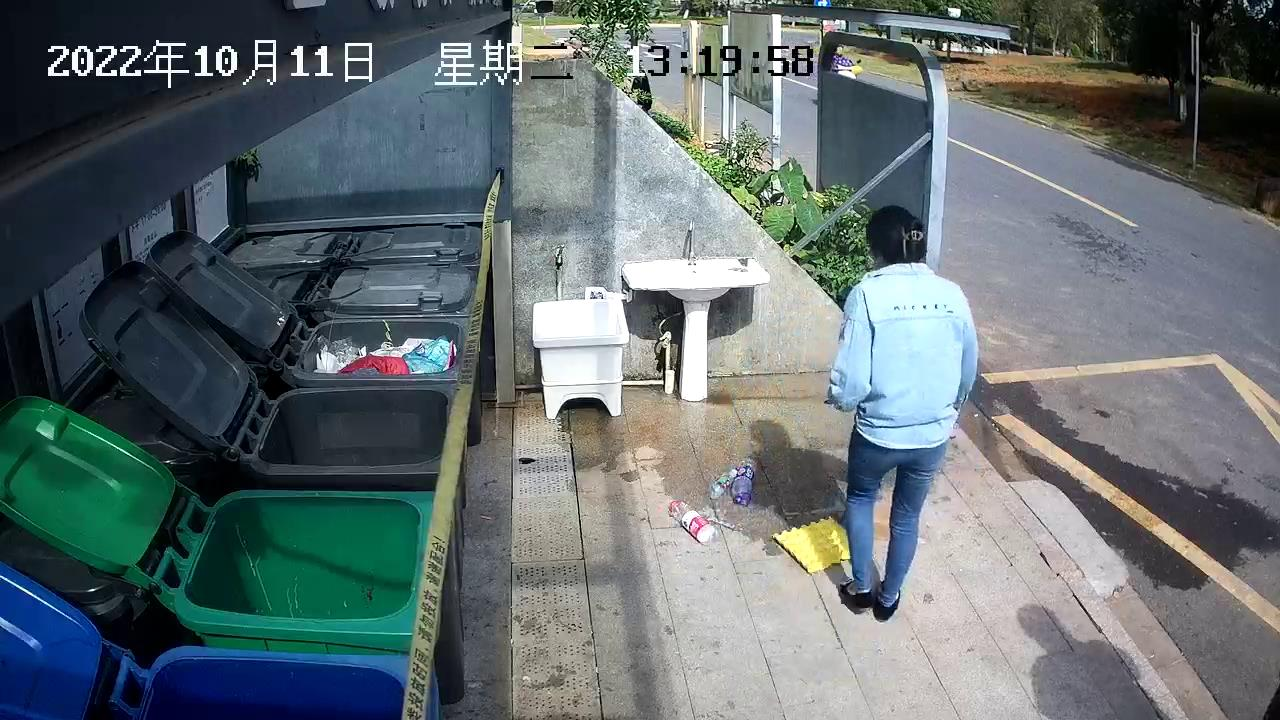suliaozhipin: (659, 492, 721, 549), (727, 450, 758, 510), (704, 466, 738, 506)
worker: (820, 201, 986, 629)
zhizhipin: (769, 513, 856, 576)
